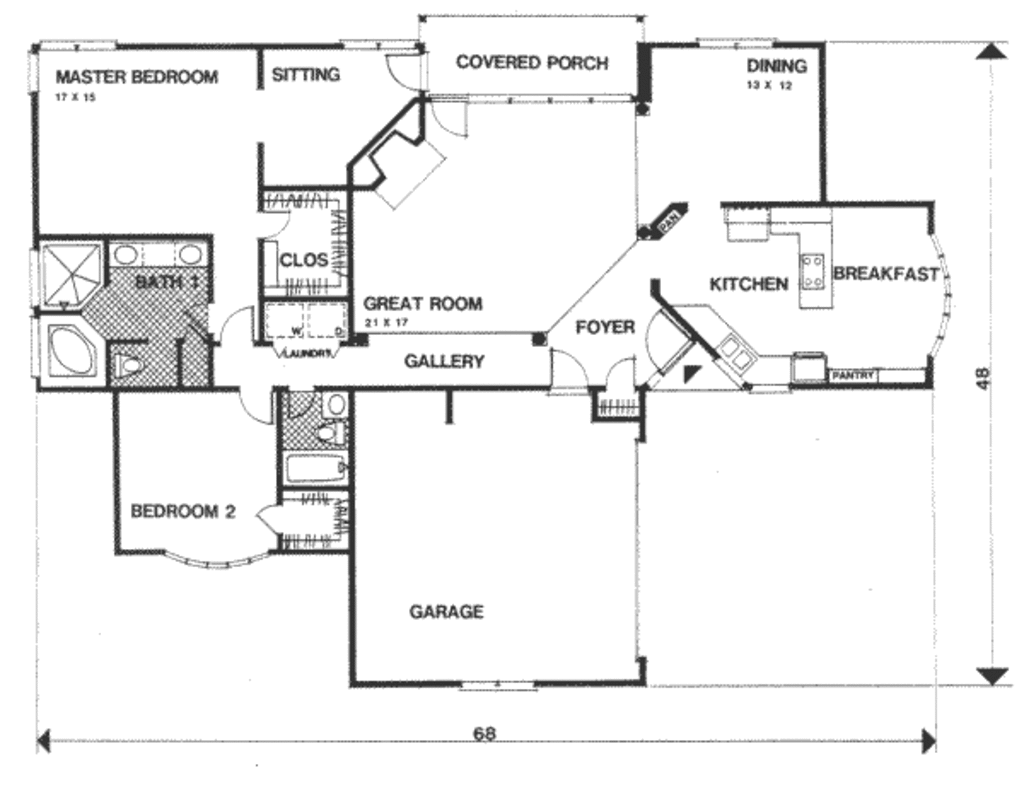door: (638, 310, 693, 369), (422, 93, 479, 146), (542, 343, 589, 402), (601, 350, 654, 399), (207, 305, 259, 352), (379, 54, 438, 91), (239, 382, 279, 425), (253, 500, 294, 541), (249, 201, 292, 240)
large_sink: (114, 342, 152, 388), (315, 425, 344, 447)
small_sink: (111, 243, 214, 269), (321, 391, 349, 418)
tub: (278, 446, 348, 491)
twin_sink: (710, 318, 764, 373)
window: (27, 251, 51, 379), (451, 673, 538, 700), (696, 29, 778, 55), (339, 35, 420, 54), (32, 41, 126, 55)
